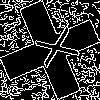X: (25, 25, 80, 74)
